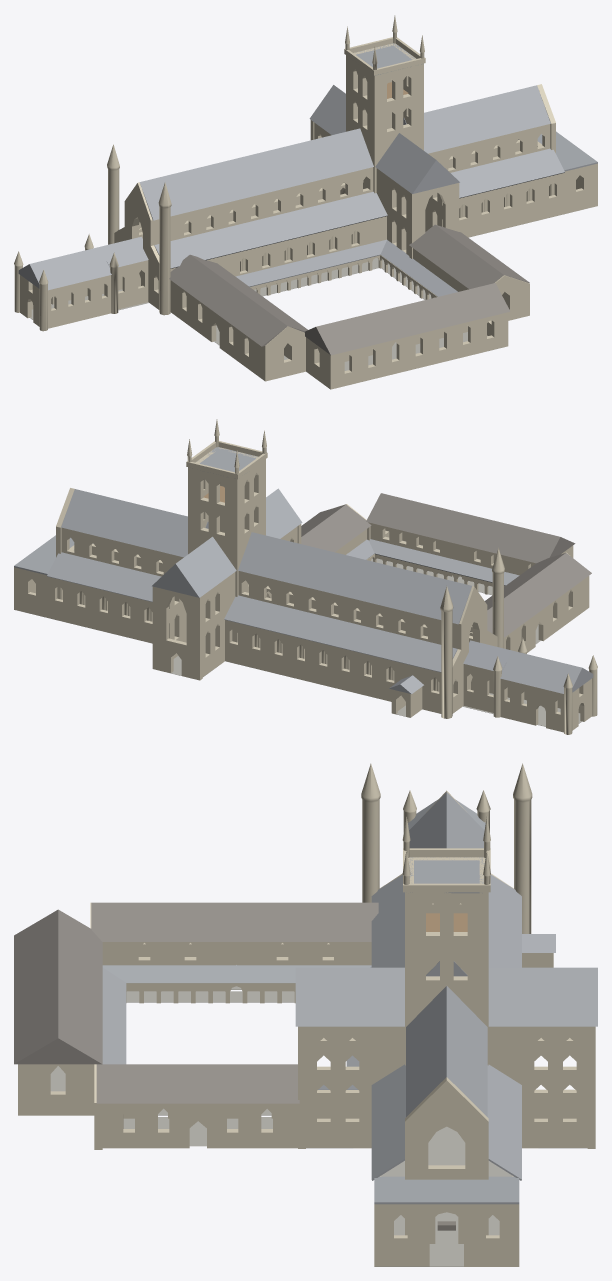
Rendered from abbey-1275.glb.
3 views of the same model, one above another, from view 1: azimuth 30°, elevation 25°; view 2: azimuth 150°, elevation 25°; view 3: azimuth 270°, elevation 25° (orthographic). The views are drawn at different scales.
Visible parts, largest first — view 1: Central tower east face; view 2: Central tower east face; view 3: Central tower east face.
Part boxes in pixels (<box>): Central tower east face: <box>14,15,597,389</box>; Central tower east face: <box>14,419,597,734</box>; Central tower east face: <box>14,763,597,1266</box>.
Bounding box in the file's own units: 161 × 57.5 × 102.
